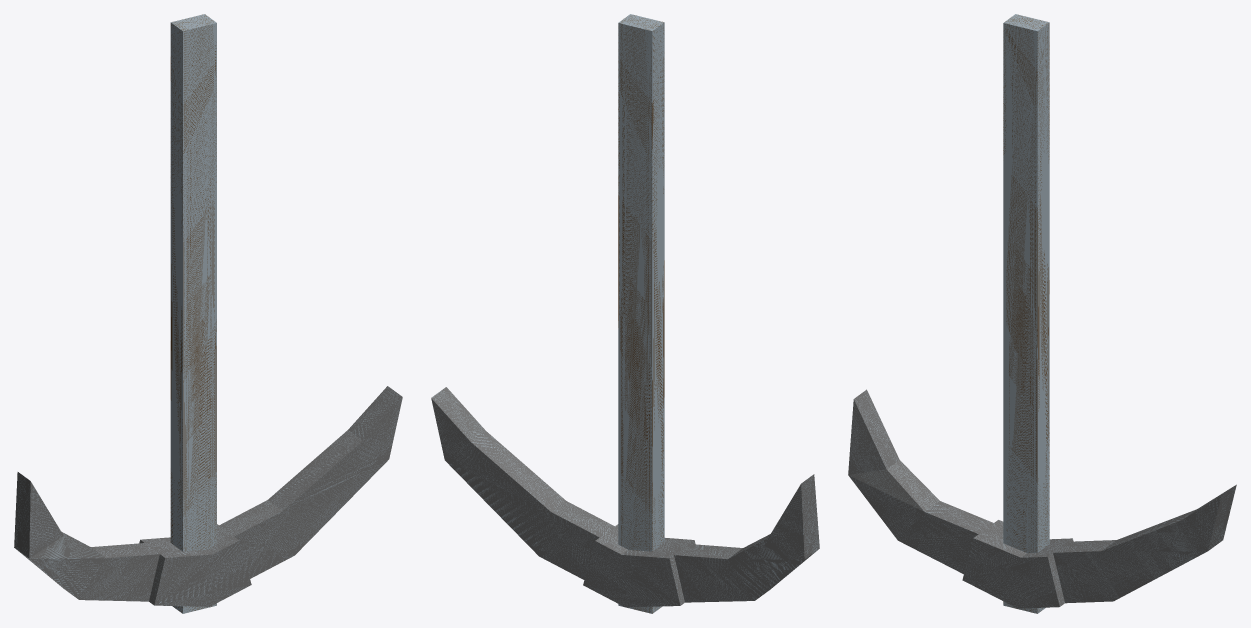
File: Mining_Pick_01.fbx
3 renders of one model, left to right at view 1: azimuth 30°, elevation 25°; view 2: azimuth 150°, elevation 25°; view 3: azimuth 330°, elevation 25°, orthographic.
Visible parts, largest first — view 1: Model; view 2: Model; view 3: Model.
Part boxes in pixels (x1,y1,x2,y2): Model: (14, 14, 402, 613); Model: (431, 14, 819, 613); Model: (848, 14, 1236, 613).
Size of the model in its own units: 283 by 422 by 33.
